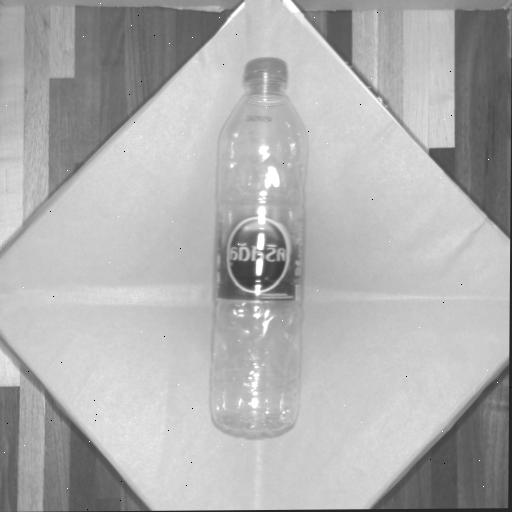bottle: (211, 55, 304, 436)
